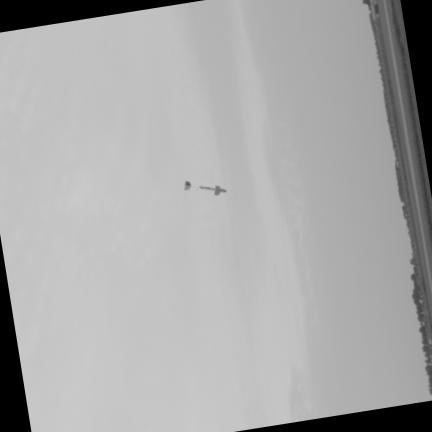Shahed: (184, 181, 226, 194)
